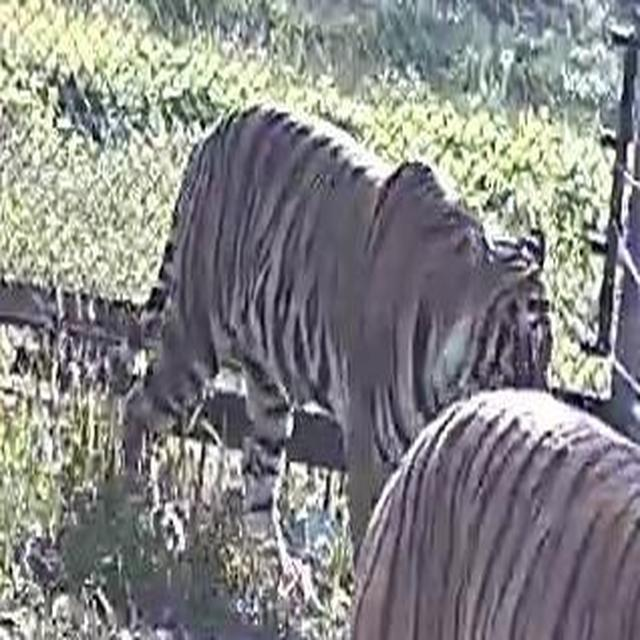tiger: (106, 69, 574, 574), (326, 366, 640, 640)
